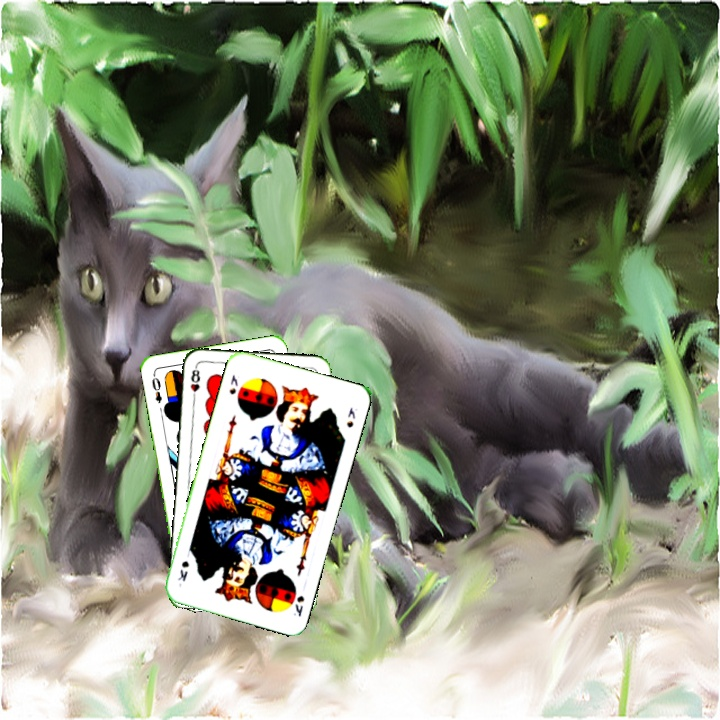EO: (148, 370, 164, 406)
H8: (187, 363, 202, 403)
SK: (289, 592, 307, 619), (225, 371, 240, 397)
